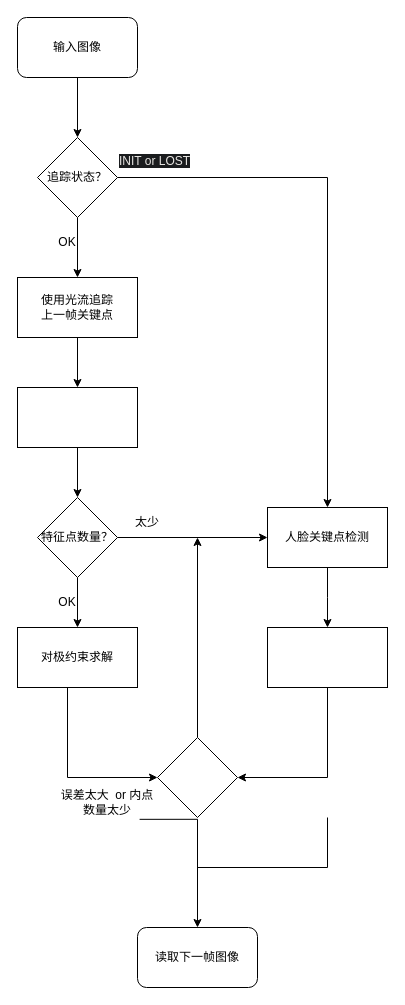
This 405x1005 diagram has some shape labels left out. Each missing label, with the box of its shape:
PnP求解: (266, 626, 388, 688)
运动一致性检测: (16, 386, 138, 448)
重投影误差 or 内点数量？: (156, 736, 238, 818)
